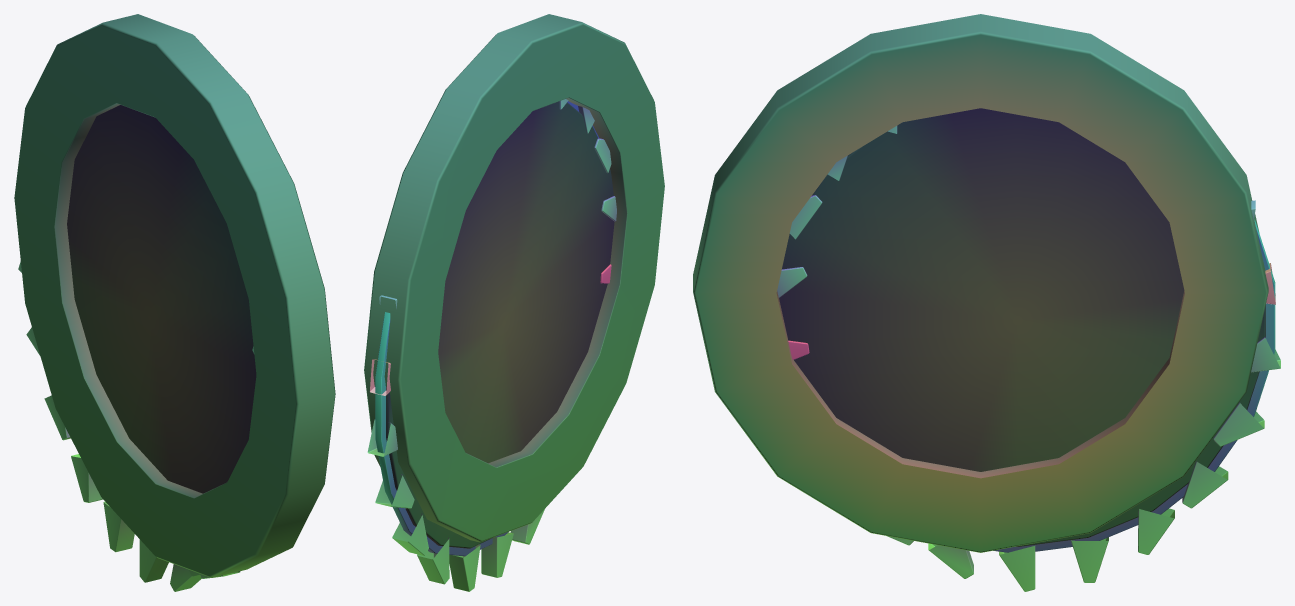
Rendered from kit_boss_plasma_saw.glb.
3 renders of one model, left to right at view 1: azimuth 30°, elevation 25°; view 2: azimuth 150°, elevation 25°; view 3: azimuth 270°, elevation 25°, orthographic. The views are drawn at different scales.
Parts seen in each view (by area): view 1: Body__armor_sub, Spinner_X_0__dark, Spinner_X_0__chrome; view 2: Body__armor_sub, Spinner_X_0__dark, Spinner_X_0__chrome, Spinner_X_0__emit_core; view 3: Body__armor_sub, Spinner_X_0__dark, Spinner_X_0__chrome, Spinner_X_0__emit_core.
Part boxes in pixels (box(x1,y1,x2,y2)): Body__armor_sub: box(14, 14, 335, 577); Spinner_X_0__dark: box(67, 105, 256, 493); Spinner_X_0__chrome: box(18, 261, 254, 591); Body__armor_sub: box(364, 14, 664, 542); Spinner_X_0__dark: box(386, 101, 614, 548); Spinner_X_0__chrome: box(367, 99, 616, 591); Spinner_X_0__emit_core: box(375, 101, 598, 556); Body__armor_sub: box(693, 14, 1268, 552); Spinner_X_0__dark: box(779, 108, 1265, 546); Spinner_X_0__chrome: box(777, 126, 1280, 591); Spinner_X_0__emit_core: box(993, 219, 1275, 552).
Bounding box in the file's own units: 0.1 × 1.34 × 1.27.
